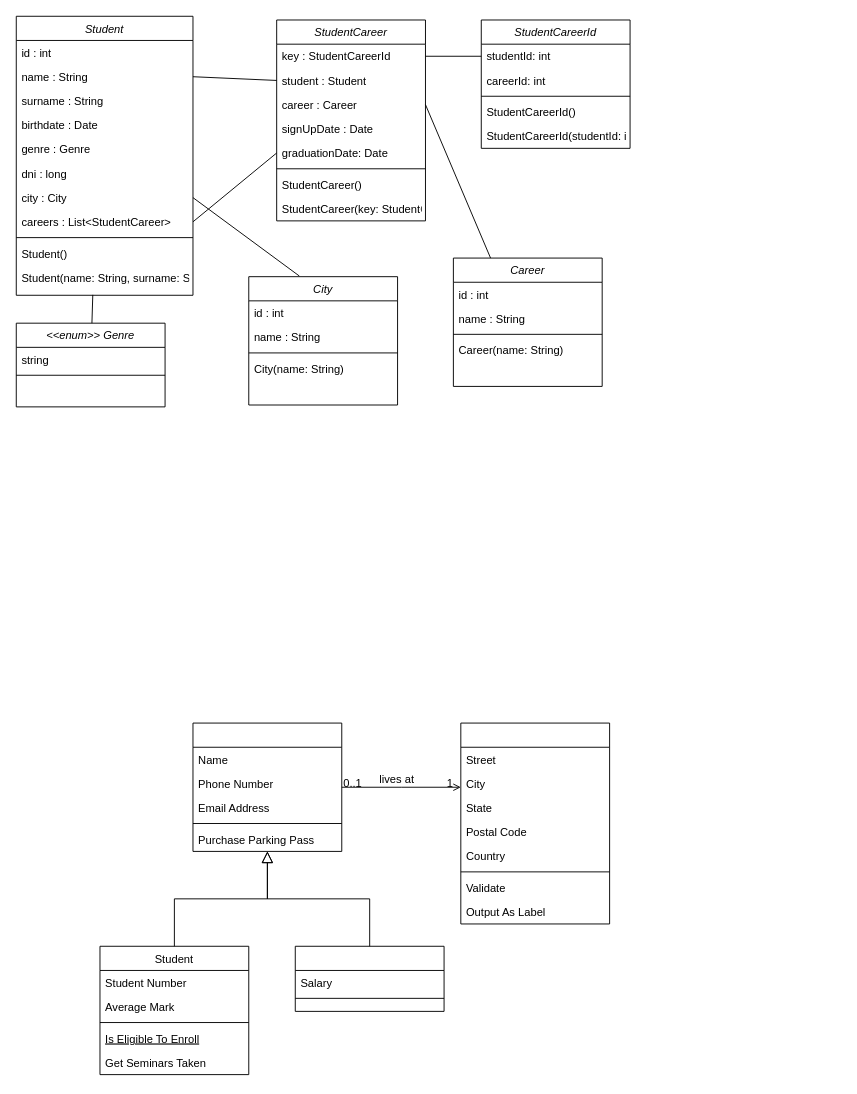
Image size: 857x1094. Some labels were removed from this diagram. Each missing label, with the box of its shape:
Address: (460, 722, 610, 924)
Person: (192, 722, 342, 851)
Professor: (294, 945, 444, 1011)
